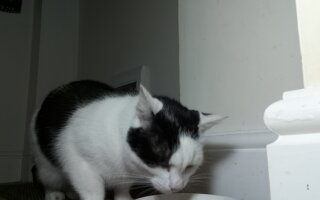bad: (29, 72, 226, 200)
